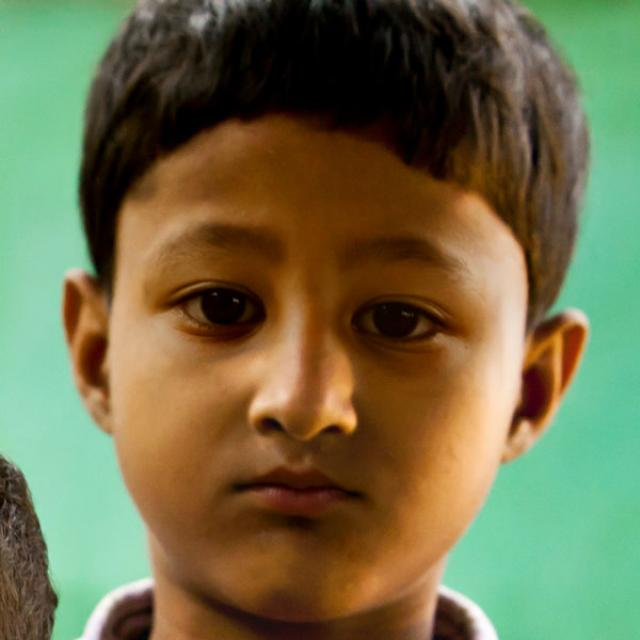face: (64, 8, 587, 618)
